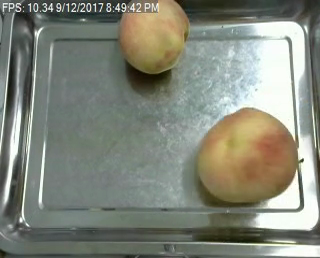Peach: (196, 106, 298, 203), (118, 0, 189, 74)
